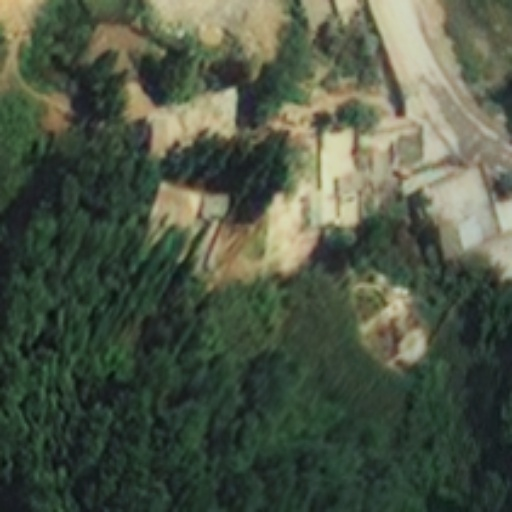landslide: (144, 182, 339, 283), (360, 278, 428, 371)
